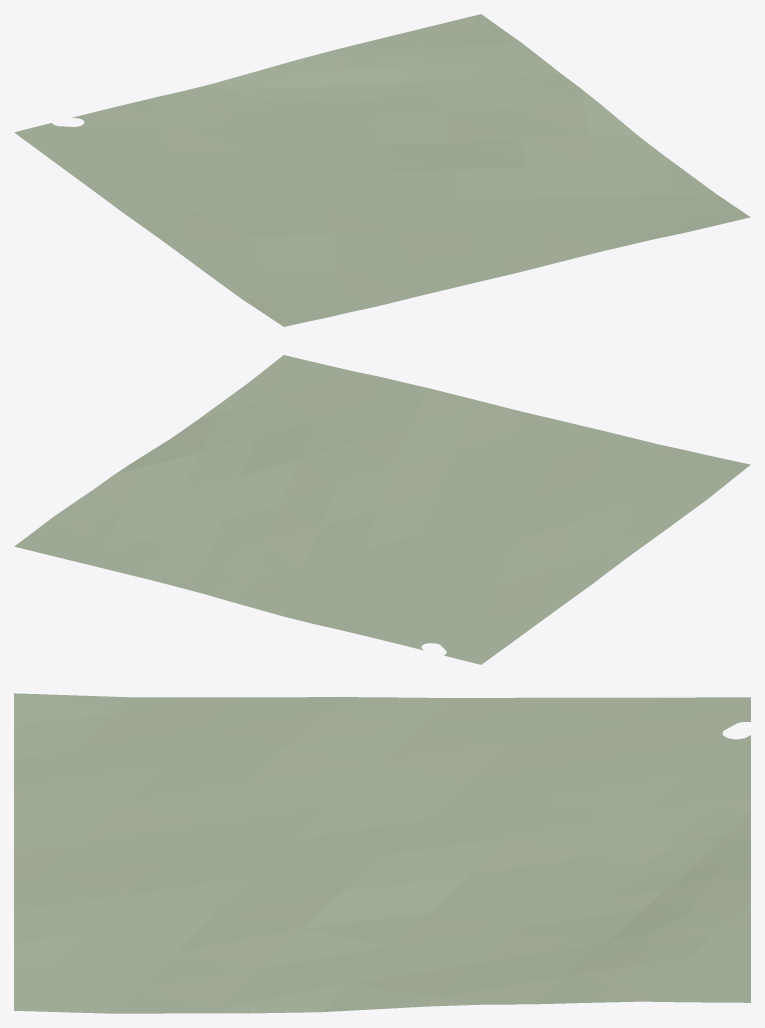
File: SM_MPRR_Terrain_-2_-2.fbx
3 renders of one model, top to bottom at view 1: azimuth 30°, elevation 25°; view 2: azimuth 150°, elevation 25°; view 3: azimuth 270°, elevation 25°, orthographic. The views are drawn at different scales.
Visible parts, largest first — view 1: SM_MPRR_Terrain_-2_-2; view 2: SM_MPRR_Terrain_-2_-2; view 3: SM_MPRR_Terrain_-2_-2.
Boxes of the visible parts, bbox=[...] form: SM_MPRR_Terrain_-2_-2: bbox=[14, 14, 750, 326]; SM_MPRR_Terrain_-2_-2: bbox=[14, 355, 750, 664]; SM_MPRR_Terrain_-2_-2: bbox=[14, 693, 750, 1013].
Size of the model in its own units: 15000 by 15000 by 268.
